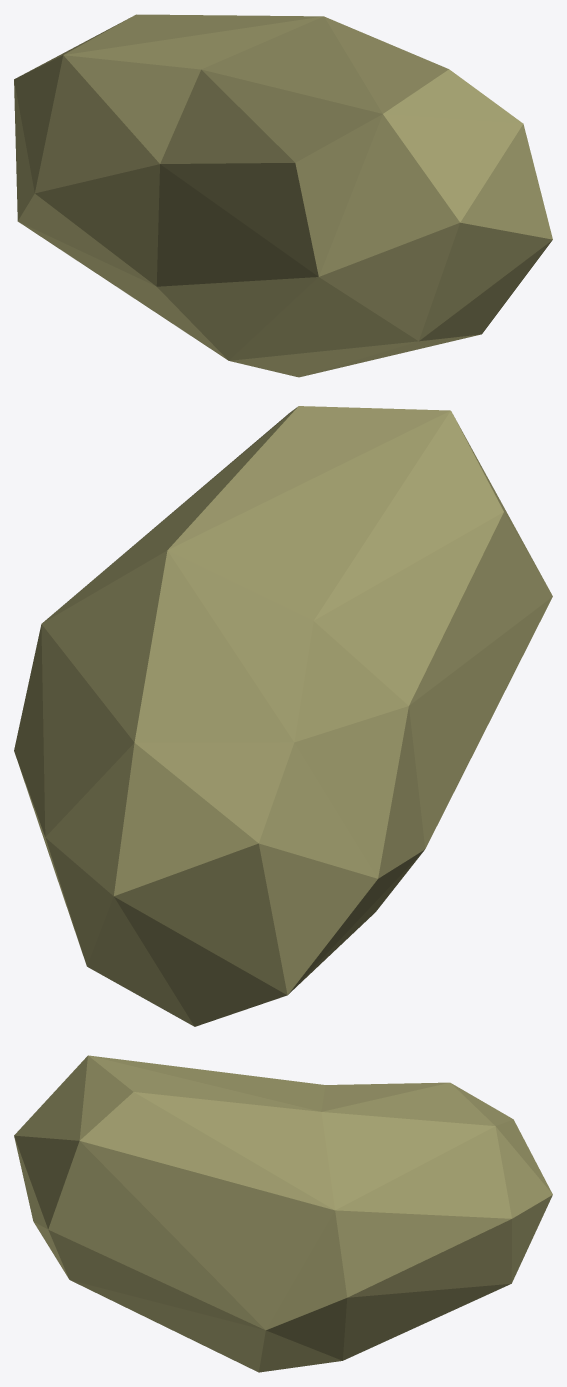
The model's file is DeadVegetationDecorationSmallCluster1.fbx.
The picture shows the model from 3 angles, top to bottom: view 1: azimuth 30°, elevation 25°; view 2: azimuth 150°, elevation 25°; view 3: azimuth 270°, elevation 25°; orthographic projection. The views are drawn at different scales.
Visible parts, largest first — view 1: DeadVegetationDecorationSmallCluster1; view 2: DeadVegetationDecorationSmallCluster1; view 3: DeadVegetationDecorationSmallCluster1.
Part boxes in pixels (left/top/right/bottom): DeadVegetationDecorationSmallCluster1: left=14, top=14, right=552, bottom=377; DeadVegetationDecorationSmallCluster1: left=14, top=406, right=552, bottom=1026; DeadVegetationDecorationSmallCluster1: left=14, top=1055, right=552, bottom=1372.
Size of the model in its own units: 285 by 278 by 474.
